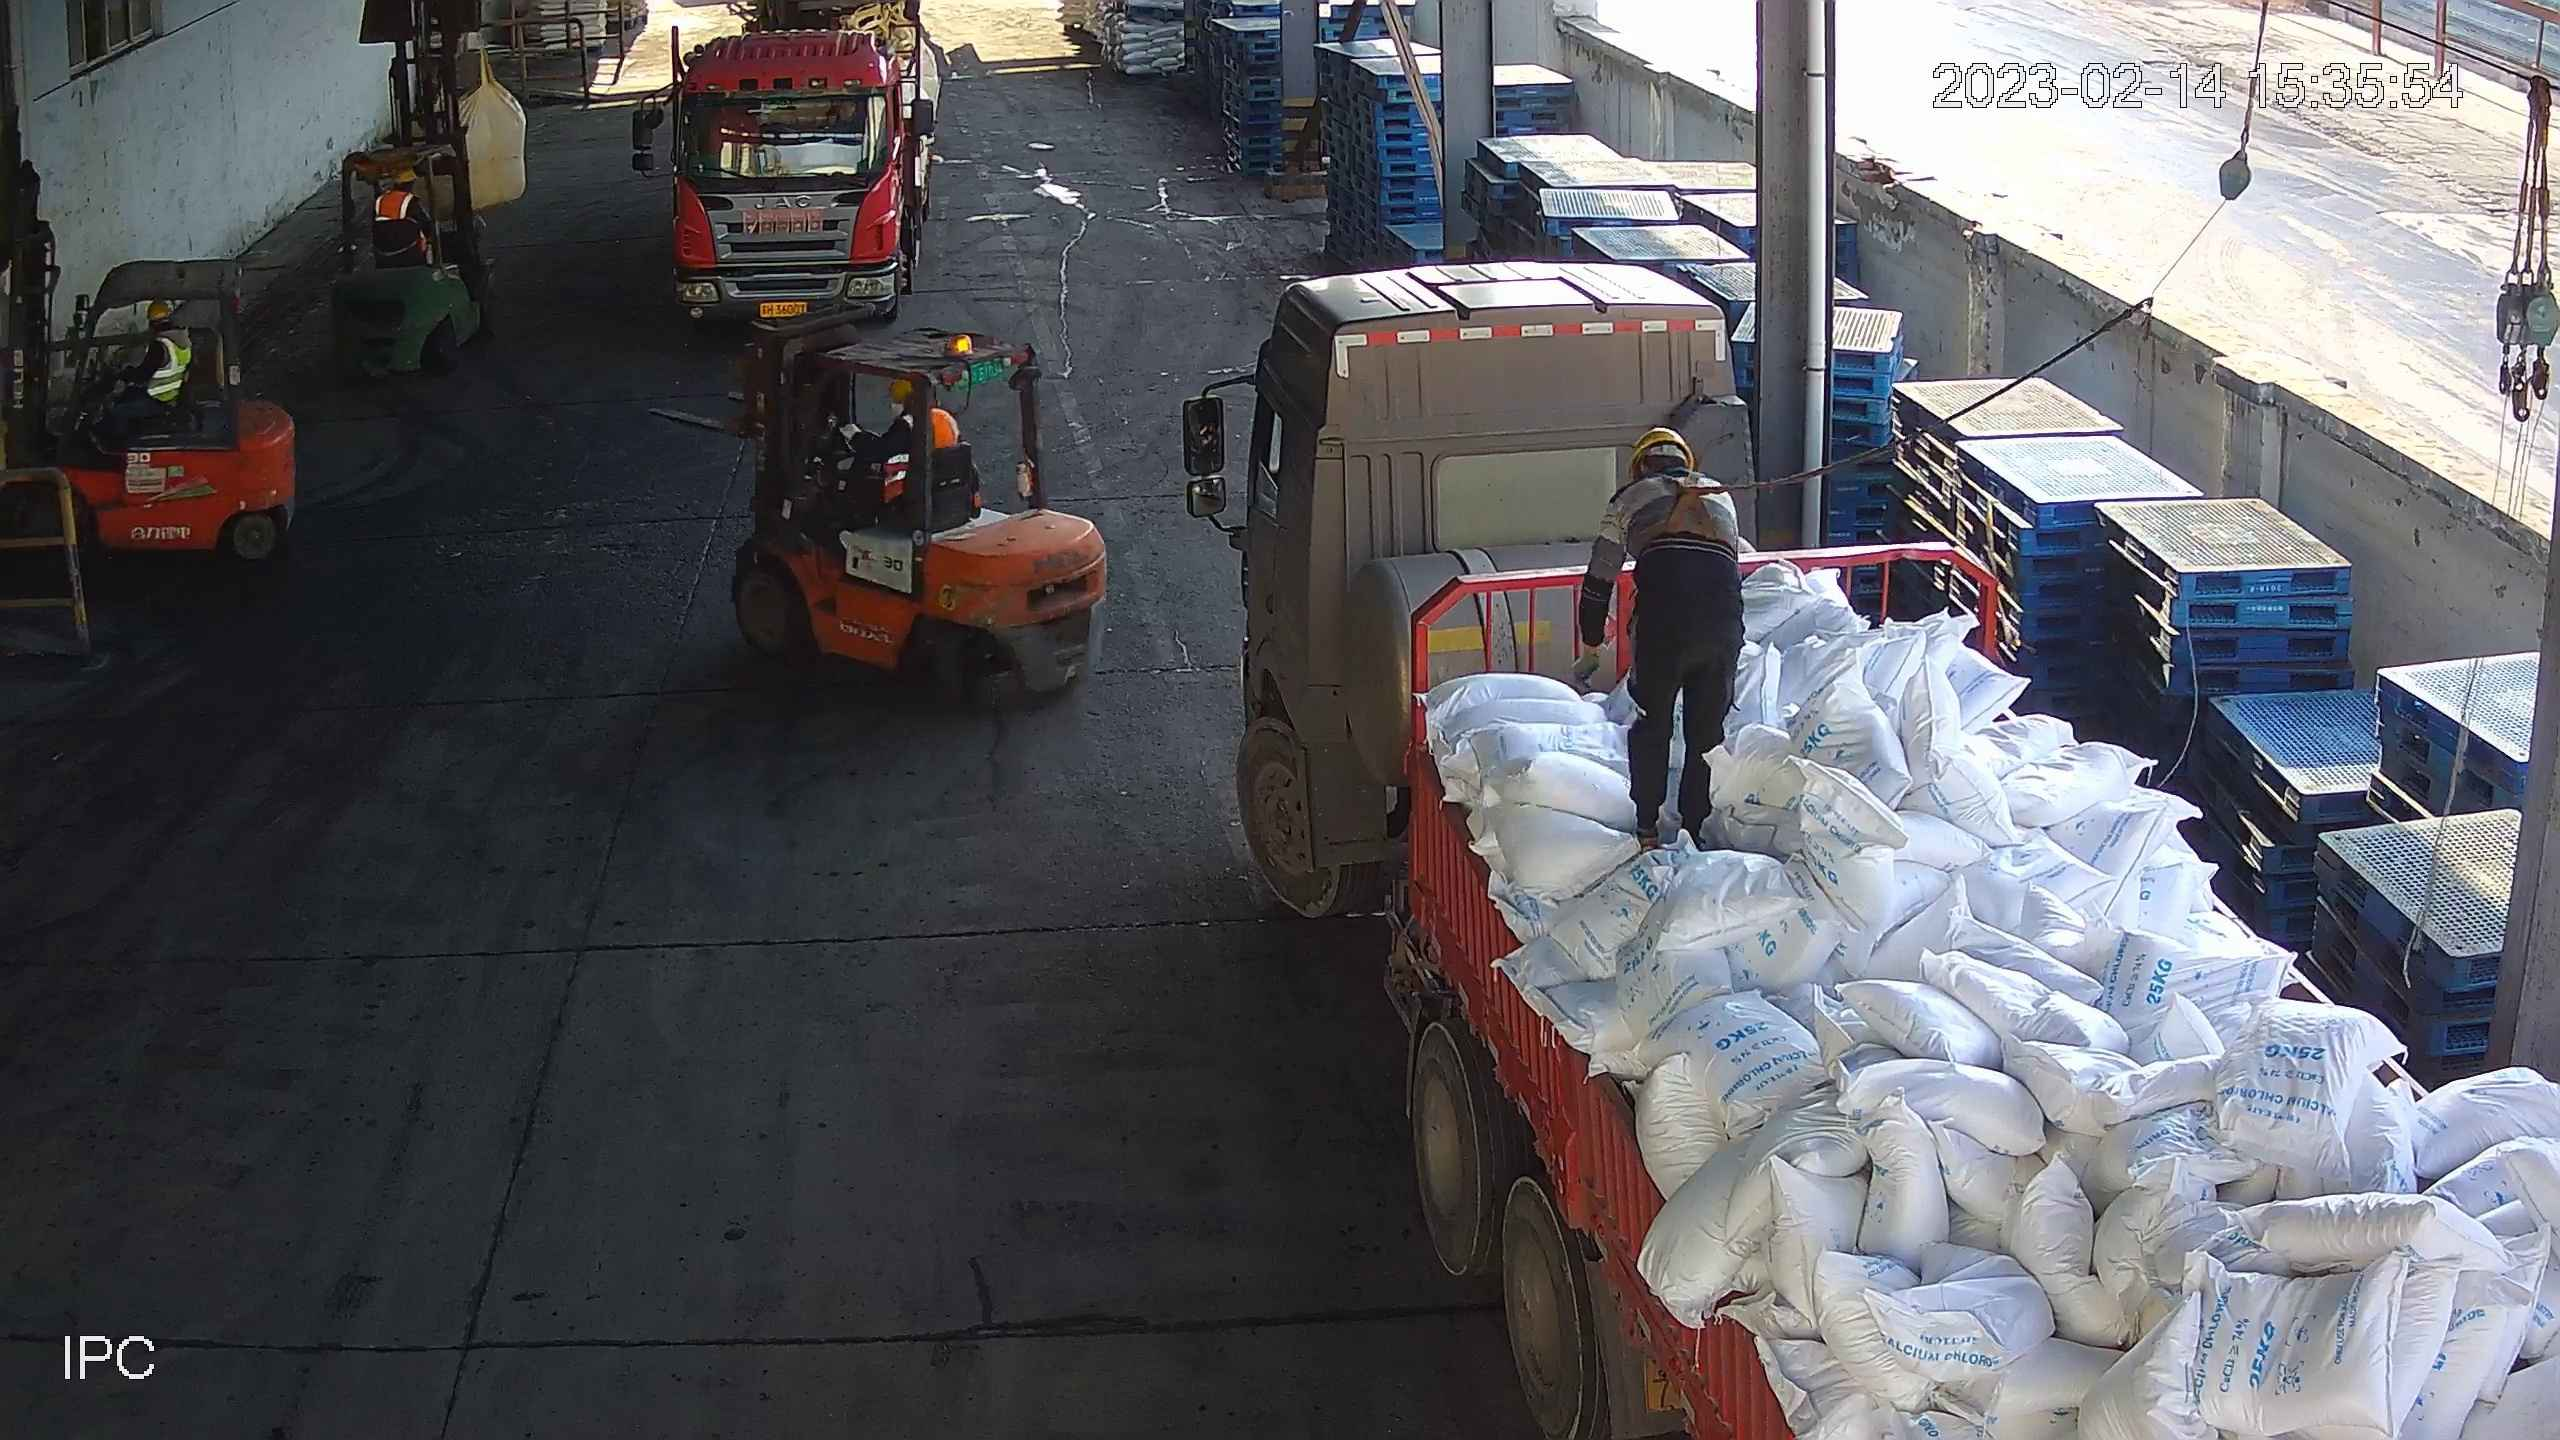belt: (1178, 257, 2560, 1440), (1637, 472, 1762, 546)
head: (1599, 426, 1738, 525), (882, 380, 959, 446), (146, 298, 190, 361), (375, 169, 418, 210)
helmet: (1627, 426, 1694, 475), (882, 378, 916, 401), (146, 298, 173, 322), (394, 168, 418, 185)
people: (1568, 425, 1746, 856), (102, 298, 191, 437)
truck: (630, 3, 943, 325)
